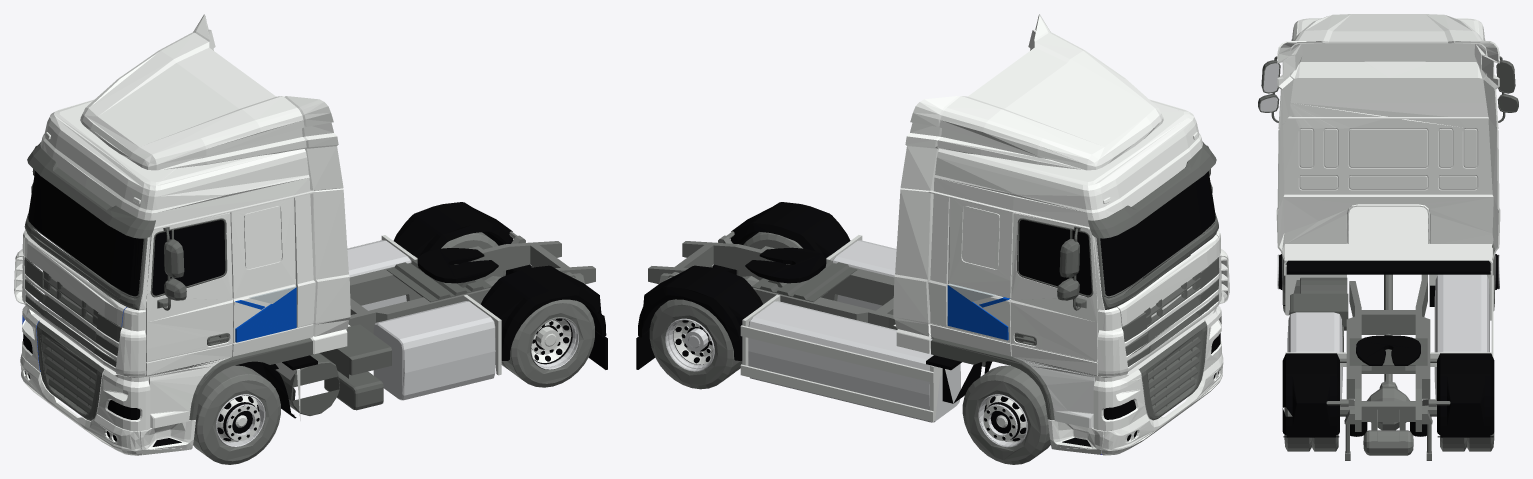
File: head.glb
3 renders of one model, left to right at view 1: azimuth 30°, elevation 25°; view 2: azimuth 150°, elevation 25°; view 3: azimuth 270°, elevation 25°, orthographic. The views are drawn at different scales.
Parts seen in each view (by area): view 1: 3.002; view 2: 3.002; view 3: 3.002.
Boxes of the visible parts, x1,y1,x2,y2 form: 3.002: [14, 14, 607, 464]; 3.002: [636, 14, 1229, 464]; 3.002: [1258, 14, 1518, 460].
Size of the model in its own units: 3.66 by 2.36 by 1.82.
Materials: 1 (1 with a texture image).
